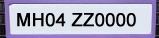character: (16, 11, 30, 26), (32, 11, 44, 27), (82, 11, 94, 26), (70, 11, 81, 27), (94, 11, 104, 26), (105, 11, 115, 26), (115, 11, 125, 26), (55, 12, 65, 26), (45, 11, 54, 26), (126, 12, 135, 26)
